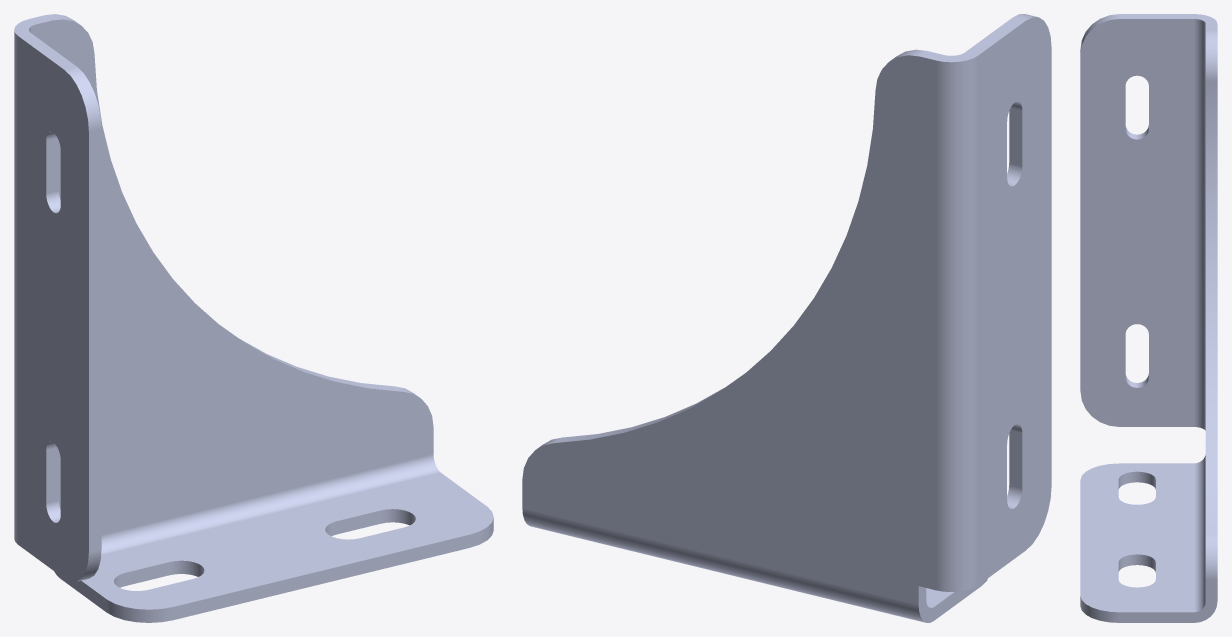
File: PRIVACY_PANEL_BRACKET_LHS.gltf
3 renders of one model, left to right at view 1: azimuth 30°, elevation 25°; view 2: azimuth 150°, elevation 25°; view 3: azimuth 270°, elevation 25°, orthographic. The views are drawn at different scales.
Visible parts, largest first — view 1: PRIVACY PANEL BRACKET_25mm THKMirror; view 2: PRIVACY PANEL BRACKET_25mm THKMirror; view 3: PRIVACY PANEL BRACKET_25mm THKMirror.
Part boxes in pixels (x1,y1,x2,y2): PRIVACY PANEL BRACKET_25mm THKMirror: [14, 14, 493, 622]; PRIVACY PANEL BRACKET_25mm THKMirror: [522, 14, 1051, 622]; PRIVACY PANEL BRACKET_25mm THKMirror: [1080, 14, 1217, 622].
Size of the model in its own units: 0.1 by 0.125 by 0.035.
